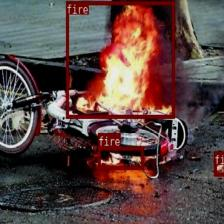fire: (66, 0, 174, 118), (98, 146, 144, 168), (213, 151, 224, 175)
